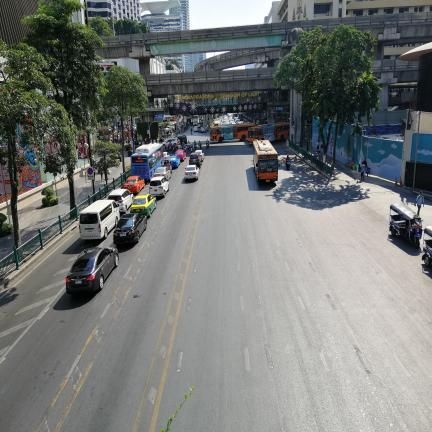bus: (131, 143, 165, 180), (253, 140, 278, 182), (210, 122, 254, 142), (248, 123, 290, 143), (248, 124, 274, 142), (210, 125, 234, 142), (234, 123, 255, 141), (274, 123, 290, 140)
car: (66, 247, 119, 294), (113, 213, 147, 245), (108, 189, 134, 212), (149, 177, 169, 197), (184, 165, 200, 181), (154, 166, 171, 180), (161, 156, 172, 174), (189, 152, 201, 167), (195, 150, 204, 163), (163, 152, 169, 158)
human: (416, 191, 424, 215), (361, 162, 365, 180)
motorbike: (389, 203, 423, 247), (422, 226, 432, 267), (286, 157, 291, 170), (198, 141, 202, 150), (206, 142, 209, 148)
taxi: (130, 195, 156, 218), (124, 176, 145, 193), (175, 149, 186, 162), (170, 154, 180, 168)
van: (79, 200, 120, 239)
